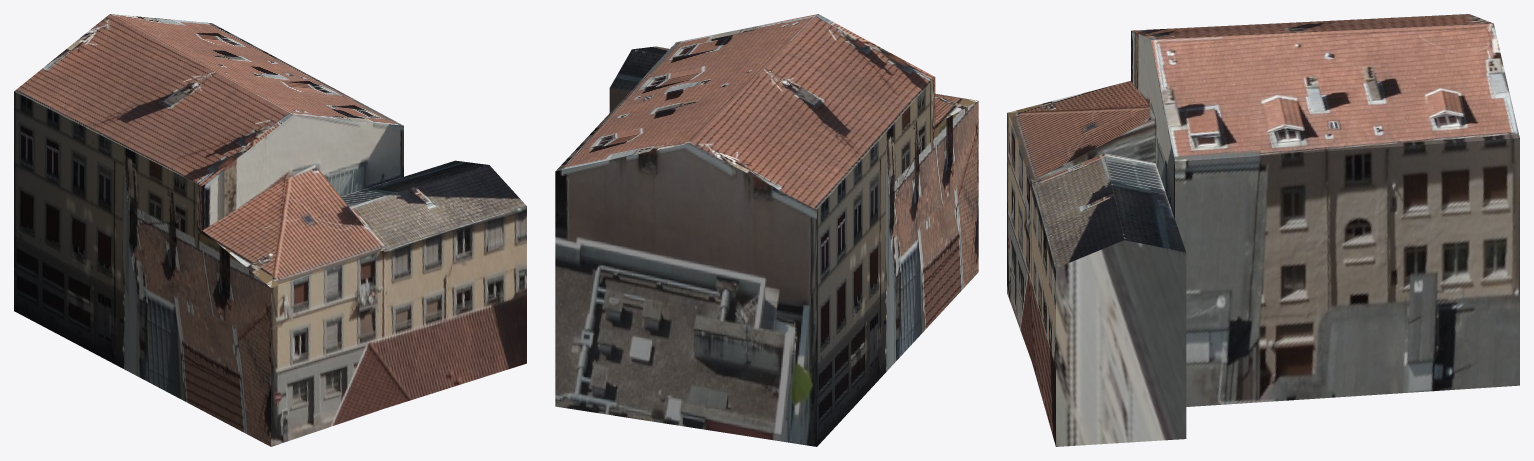
The picture shows the model from 3 angles, left to right: view 1: azimuth 30°, elevation 25°; view 2: azimuth 150°, elevation 25°; view 3: azimuth 270°, elevation 25°; orthographic projection. The views are drawn at different scales.
Parts seen in each view (by area): view 1: Z_UP; view 2: Z_UP; view 3: Z_UP.
Part boxes in pixels (box(x1,y1,x2,y2)): Z_UP: box(14, 14, 526, 446); Z_UP: box(555, 14, 978, 446); Z_UP: box(1007, 14, 1519, 446).
Bounding box in the file's own units: 23.28 × 17.8 × 27.51.
Materials: 2 (1 with a texture image).
